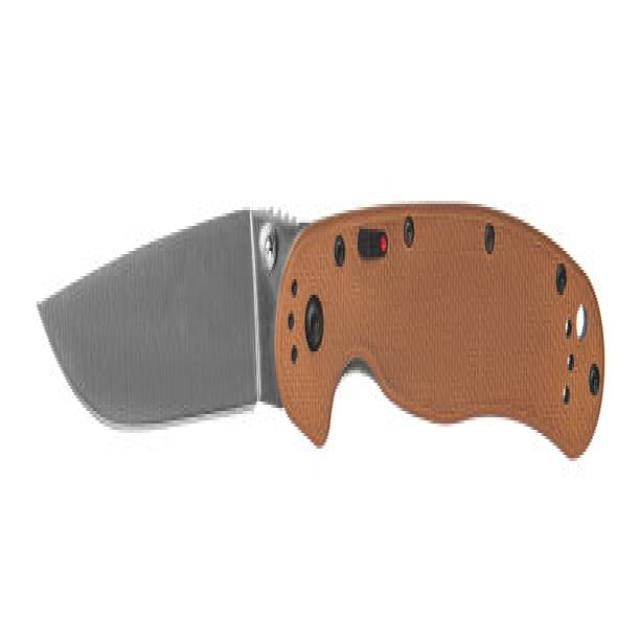knife: (36, 185, 608, 495)
